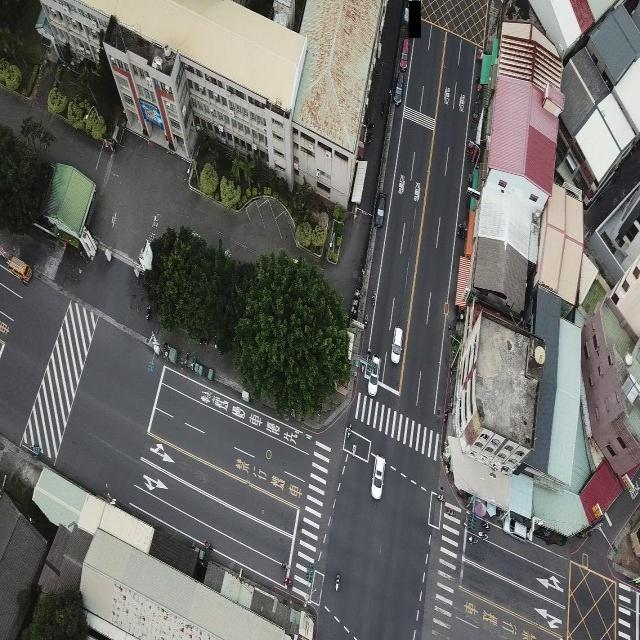bike: (344, 418, 354, 441), (201, 536, 212, 553), (143, 302, 152, 322), (278, 561, 292, 573), (478, 528, 489, 542), (284, 576, 294, 590), (350, 440, 357, 458), (481, 519, 490, 532), (446, 507, 456, 518), (468, 534, 477, 546), (435, 491, 446, 500), (372, 284, 376, 308), (335, 573, 340, 591), (364, 312, 368, 328)
car: (500, 514, 530, 542), (370, 454, 386, 500), (367, 354, 381, 397), (390, 326, 403, 364), (374, 192, 386, 228), (401, 33, 411, 71), (394, 71, 404, 105)
